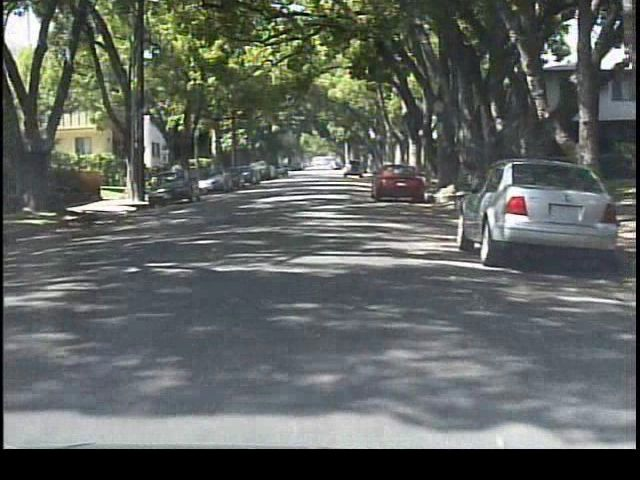person: (168, 158, 187, 193)
